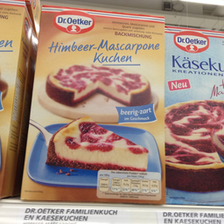cake: (21, 3, 166, 203), (160, 21, 224, 200)
